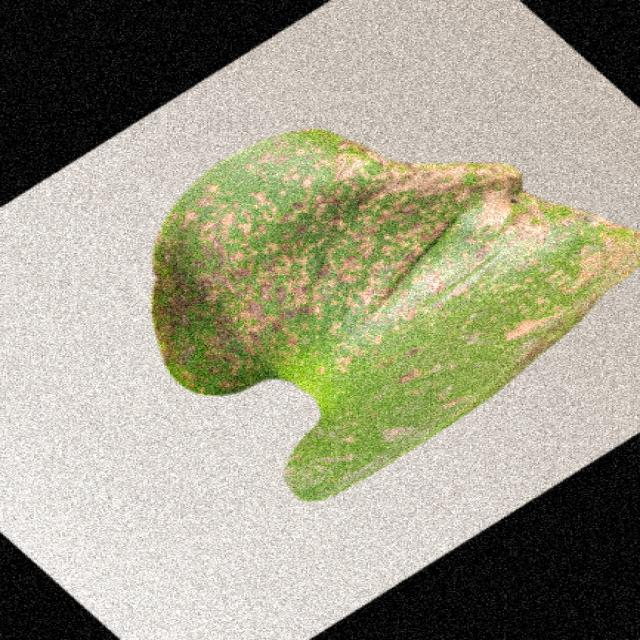daun berpenyakit bercak: (153, 130, 638, 499)
